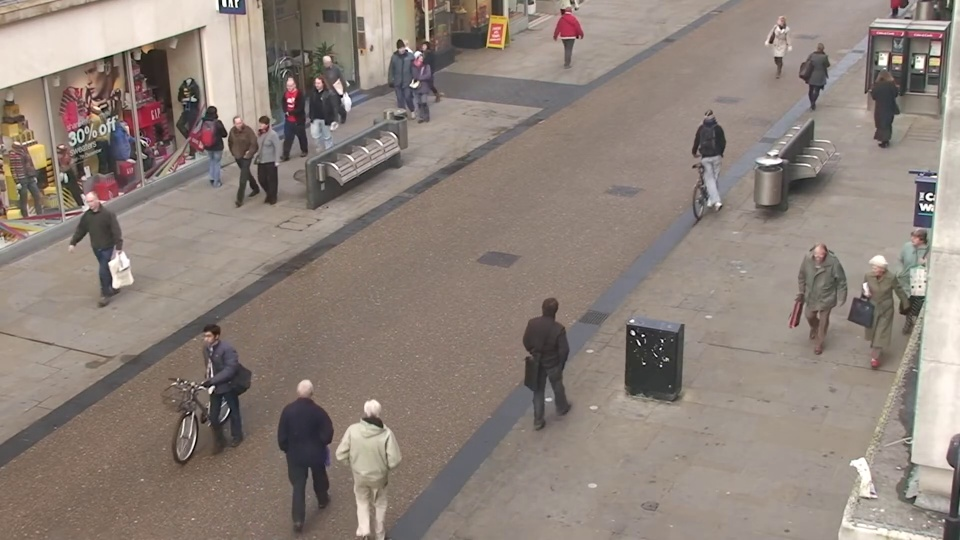pedestrian: (348, 378, 405, 539), (283, 357, 341, 513), (179, 325, 238, 473), (845, 253, 899, 386), (884, 227, 938, 355), (536, 286, 581, 427), (789, 239, 837, 367), (63, 194, 115, 307), (219, 113, 256, 205), (244, 117, 280, 211), (861, 66, 899, 151), (201, 100, 237, 189), (699, 99, 730, 191), (271, 80, 303, 164), (300, 79, 331, 164), (804, 38, 835, 115), (311, 53, 340, 130), (403, 51, 431, 128), (387, 41, 414, 116), (763, 13, 791, 82), (409, 38, 435, 111), (558, 3, 581, 68)
